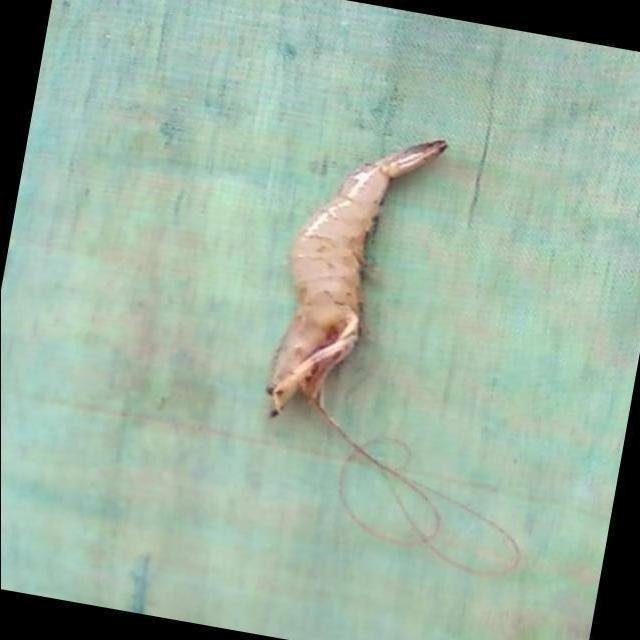shrimp: (266, 140, 446, 417)
